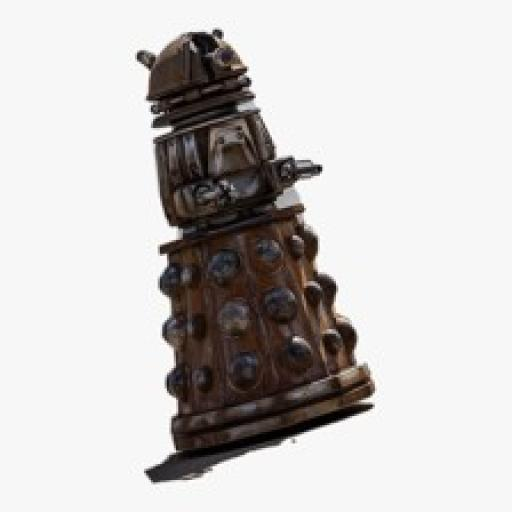dalek: (117, 26, 381, 453)
